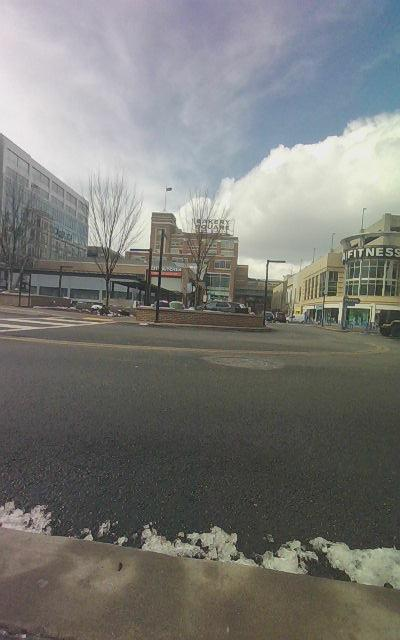curb: (0, 527, 399, 639)
road: (0, 309, 399, 588)
